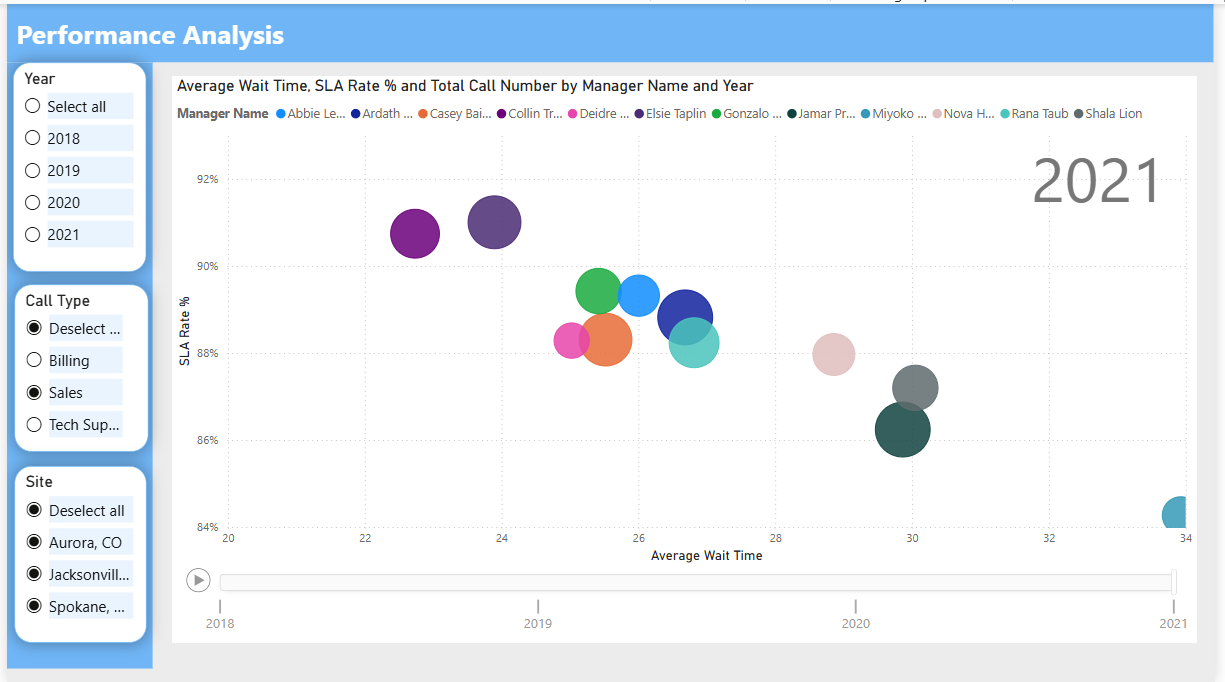

The page's visual inventory and layout, read from the dashboard file:
{"tool":"powerbi","page":{"name":"Performance Manager","canvas":[1280,720],"ordinal":4},"visuals":[{"type":"shape","box":[0,0,1279.4,61.8],"z":0},{"type":"shape","box":[0,61.8,154.4,642.6],"z":1000},{"type":"listSlicer","fields":{"Values":["Date.Year"]},"box":[5.9,61.8,141.2,222.1],"z":2000},{"type":"listSlicer","fields":{"Values":["Dim Call Types.Call Type"]},"box":[7.6,296.7,141.7,177.6],"z":3000},{"type":"listSlicer","fields":{"Values":["Dim Employees.Site"]},"box":[7.6,489.5,139.8,187.1],"z":4000},{"type":"scatterChart","fields":{"X":["Model Measures.Average Wait Time"],"Y":["Model Measures.SLA Rate %"],"Series":["Dim Employees.Manager Name"],"Size":["Model Measures.Total Call Number"],"Play":["Date.Year"]},"box":[175.7,75.6,1086.6,600.9],"z":5000}]}

Visuals, with their boxes in screenshot pixels (x1, y1, x2, y2), scaled from the page's 1280x720 canvas onto the 1225x682 screenshot:
shape: 0, 0, 1224, 59
shape: 0, 59, 148, 667
listSlicer - Date.Year: 6, 59, 141, 269
listSlicer - Dim Call Types.Call Type: 7, 281, 143, 449
listSlicer - Dim Employees.Site: 7, 464, 141, 641
scatterChart - Model Measures.Average Wait Time x Model Measures.SLA Rate %: 168, 72, 1208, 641
